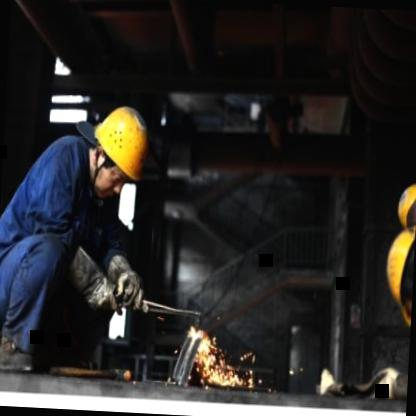helmet: (82, 97, 157, 200), (380, 223, 416, 332), (393, 178, 416, 235)
